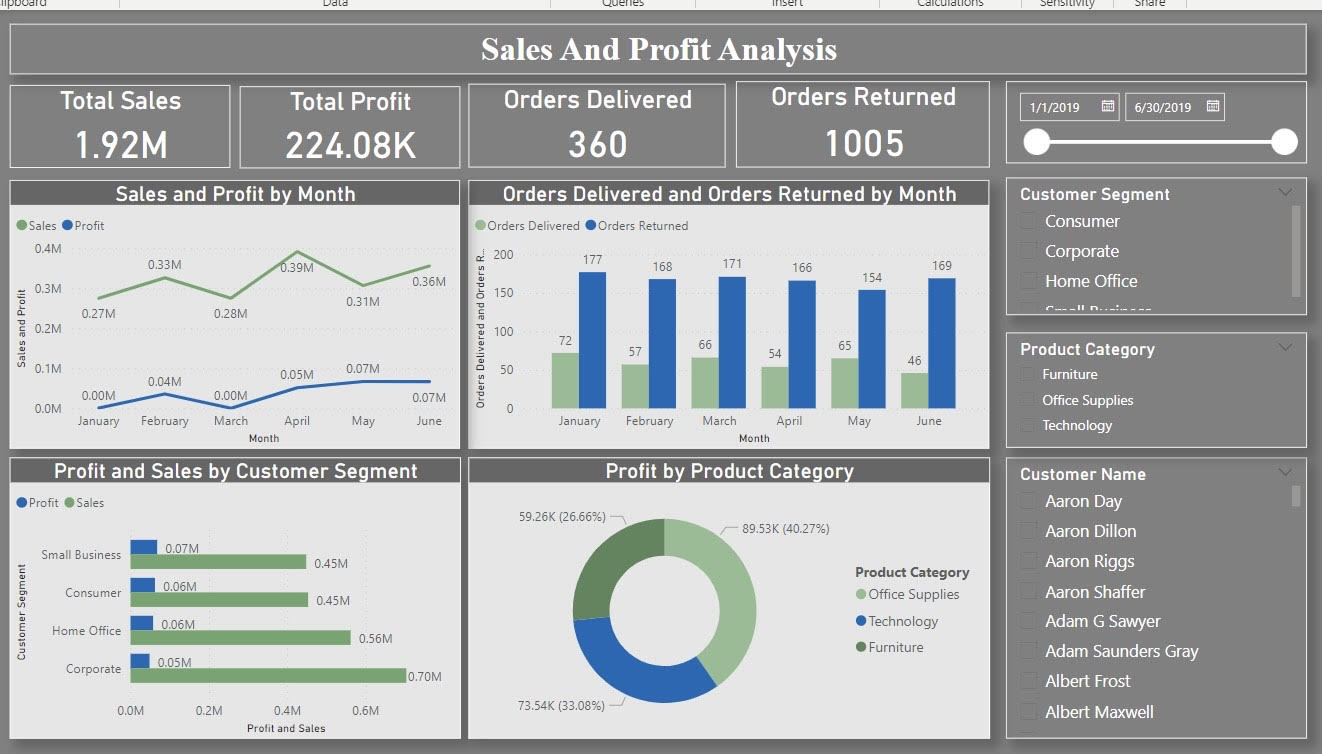

The dashboard page shown, as its layout file describes it:
{"tool":"powerbi","page":{"name":"Sales analysis1","canvas":[1280,720],"ordinal":0},"visuals":[{"type":"textbox","box":[13.1,13.1,1251.3,49],"z":0},{"type":"slicer","fields":{"Values":["Customer.Customer Segment"]},"box":[974.3,161.2,290.1,132.5],"z":1000},{"type":"slicer","fields":{"Values":["Customer.Customer Name"]},"box":[974.3,432.2,290.1,271],"z":2000},{"type":"slicer","fields":{"Values":["Product.Product Category"]},"box":[974.3,311.6,290.1,111],"z":3000},{"type":"card","title":"Total Sales","fields":{"Values":["Sales data.Sales"]},"box":[13.1,72.8,212.5,80],"z":4000},{"type":"card","title":"Total Profit","fields":{"Values":["Sales data.Profit"]},"box":[235.2,74,212.5,78.8],"z":5000},{"type":"card","title":"Orders Delivered","fields":{"Values":["Product.Orders Delivered"]},"box":[456.1,71.6,248.4,81.2],"z":6000},{"type":"card","title":"Orders Returned","fields":{"Values":["Product.Orders Returned"]},"box":[714,69.3,244.8,83.6],"z":7000},{"type":"clusteredColumnChart","fields":{"Category":["Returns.Product.OderDate.Variation.Date Hierarchy.Month"],"Y":["Product.Orders Delivered","Product.Orders Returned"]},"box":[456.1,163.6,502.7,259.1],"z":8000},{"type":"lineChart","fields":{"Y":["Sales data.Sales","Sales data.Profit"],"Category":["Product.Order Date.Variation.Date Hierarchy.Month1"]},"box":[13.1,163.6,434.6,259.1],"z":9000},{"type":"slicer","fields":{"Values":["Product.Order Date"]},"box":[974.3,69.3,290.1,78.8],"z":10000},{"type":"clusteredBarChart","fields":{"Y":["Sales data.Profit","Sales data.Sales"],"Category":["Customer.Customer Segment"]},"box":[13,432,435,271],"z":11000},{"type":"donutChart","fields":{"Category":["Product.Product Category"],"Y":["Sales data.Profit"]},"box":[456,432,503,271],"z":12000}]}

Visuals, with their boxes on the page's 1280x720 design canvas (x1, y1, x2, y2). These are canvas units, not pixel positions in the 1322x754 screenshot, which may show the page scaled, cropped or inside an application window:
textbox: (13,13,1264,62)
slicer - Customer.Customer Segment: (974,161,1264,294)
slicer - Customer.Customer Name: (974,432,1264,703)
slicer - Product.Product Category: (974,312,1264,423)
"Total Sales" card: (13,73,226,153)
"Total Profit" card: (235,74,448,153)
"Orders Delivered" card: (456,72,704,153)
"Orders Returned" card: (714,69,959,153)
clusteredColumnChart - Returns.Product.OderDate.Variation.Date Hierarchy.Month x Product.Orders Delivered: (456,164,959,423)
lineChart - Sales data.Sales x Sales data.Profit: (13,164,448,423)
slicer - Product.Order Date: (974,69,1264,148)
clusteredBarChart - Sales data.Profit x Sales data.Sales: (13,432,448,703)
donutChart - Product.Product Category x Sales data.Profit: (456,432,959,703)
